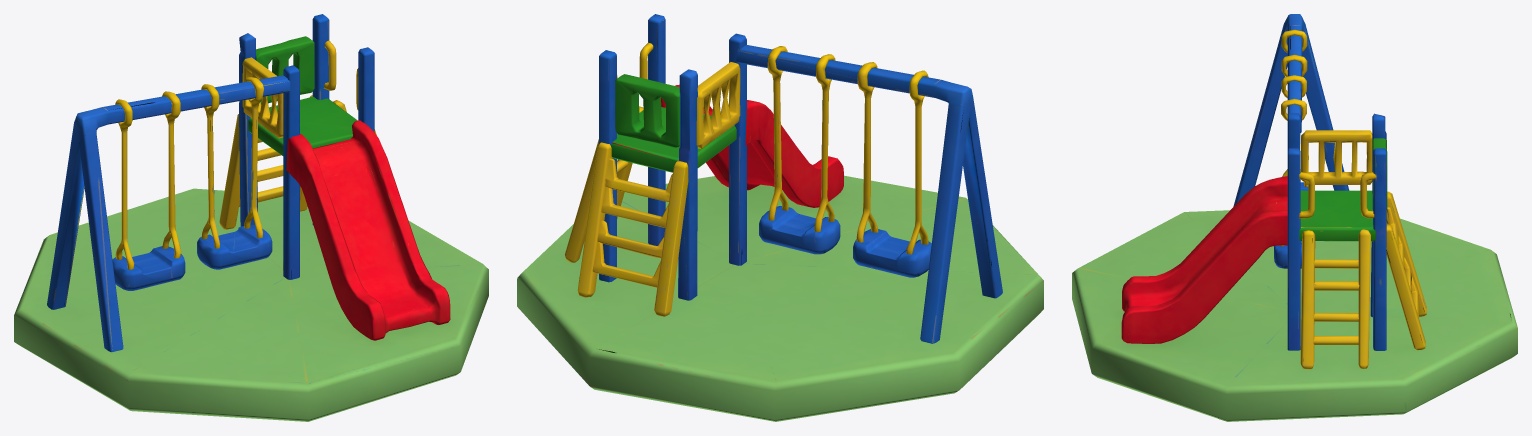
The model's file is 40-playground.glb.
3 views of the same model, side by side, from view 1: azimuth 30°, elevation 25°; view 2: azimuth 150°, elevation 25°; view 3: azimuth 270°, elevation 25° (orthographic). The views are drawn at different scales.
Parts seen in each view (by area): view 1: geometry_0; view 2: geometry_0; view 3: geometry_0.
Part boxes in pixels (x1,y1,x2,y2): geometry_0: [14, 14, 488, 421]; geometry_0: [517, 14, 1043, 421]; geometry_0: [1072, 14, 1517, 421].
Size of the model in its own units: 0.9424 by 0.5688 by 0.9497.
Materials: 1 (1 with a texture image).
